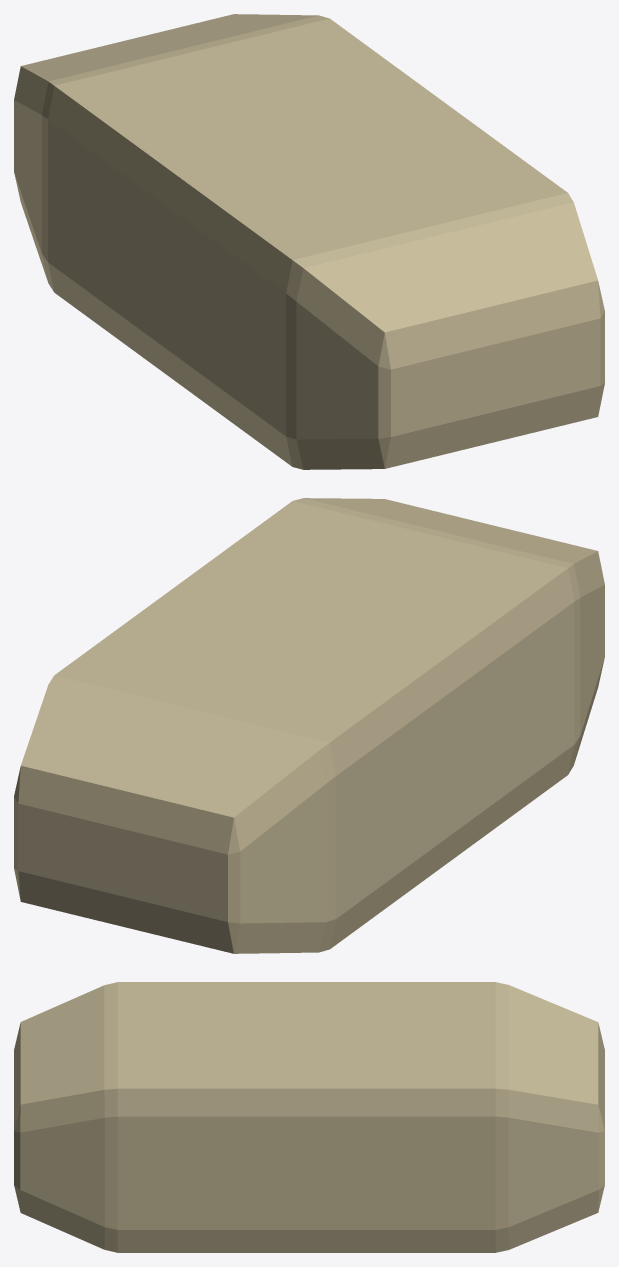
Rendered from SandBag.fbx.
The picture shows the model from 3 angles, top to bottom: view 1: azimuth 30°, elevation 25°; view 2: azimuth 150°, elevation 25°; view 3: azimuth 270°, elevation 25°; orthographic projection. The views are drawn at different scales.
Parts seen in each view (by area): view 1: Cube; view 2: Cube; view 3: Cube.
Part boxes in pixels (box(x1,y1,x2,y2)): Cube: box(14, 14, 604, 469); Cube: box(14, 498, 604, 953); Cube: box(14, 982, 604, 1252).
Size of the model in its own units: 200 by 137 by 448.
